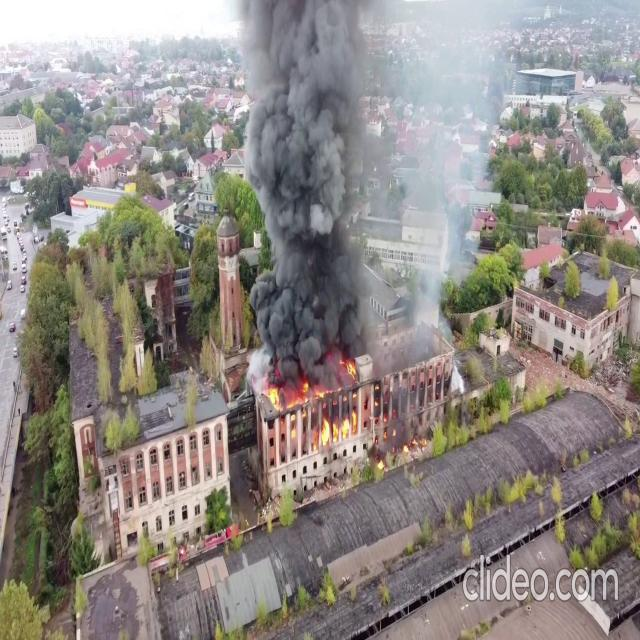Fire: (259, 366, 365, 418), (259, 370, 353, 410)
Smoke: (229, 1, 411, 376)
